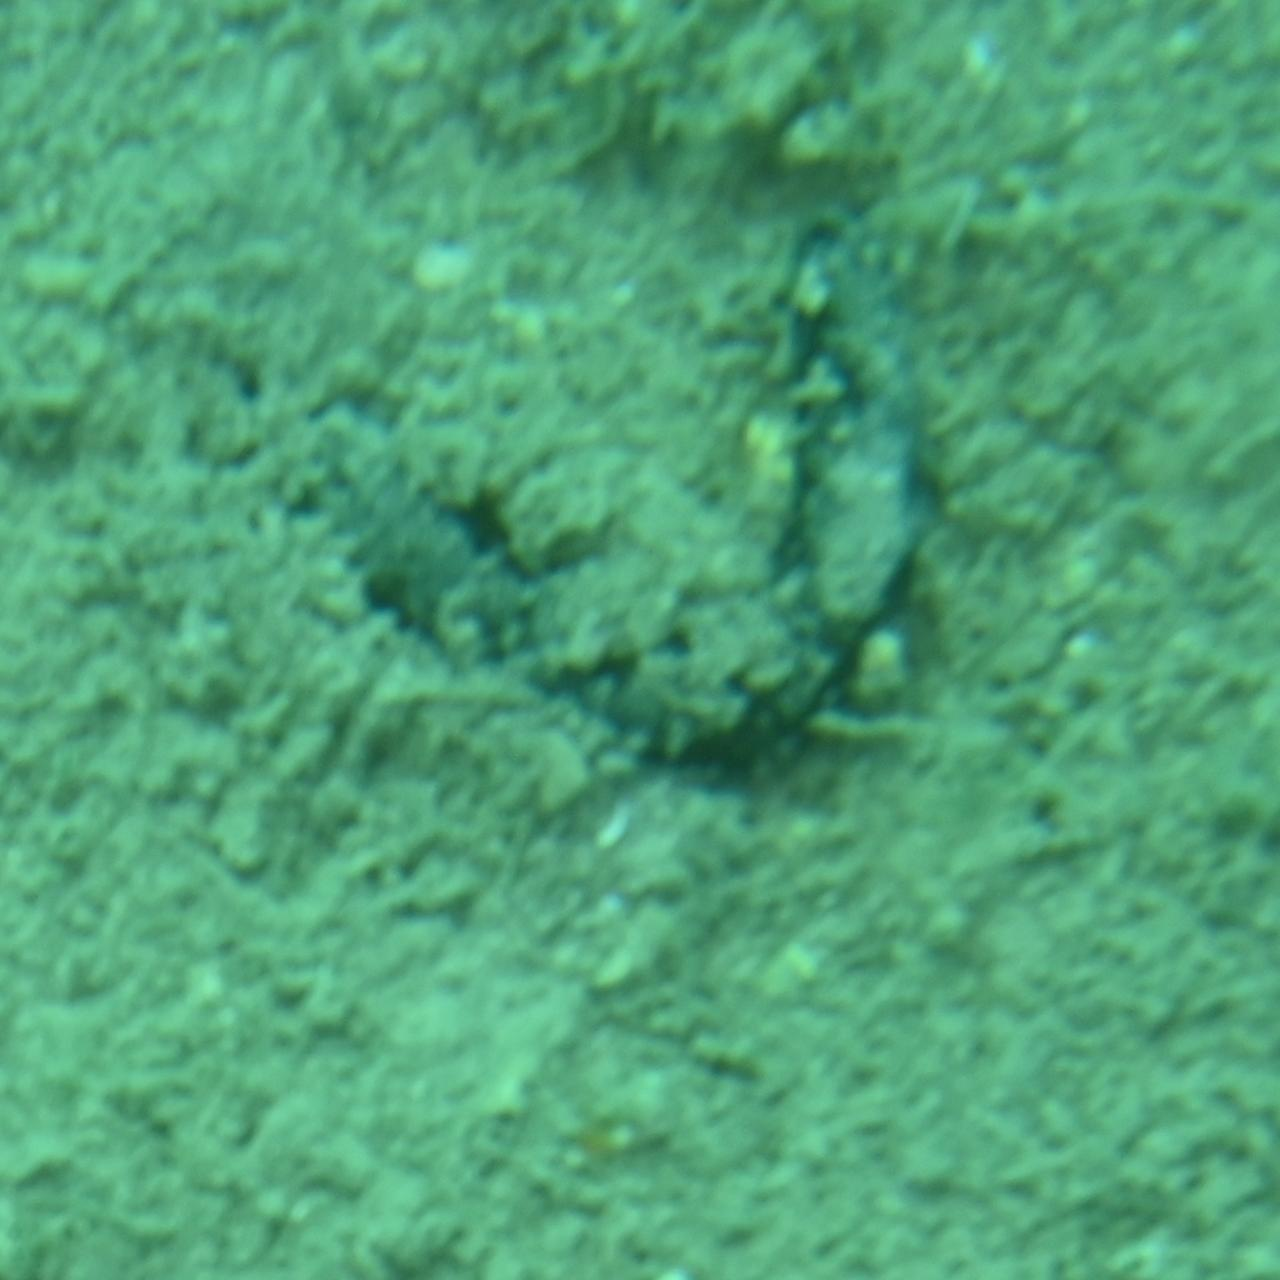Holothuria tubulosa: (302, 204, 978, 813)
